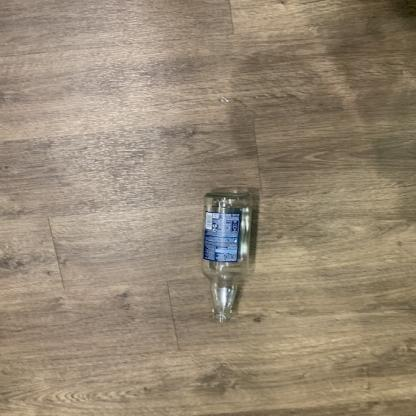trash: (198, 191, 258, 323)
